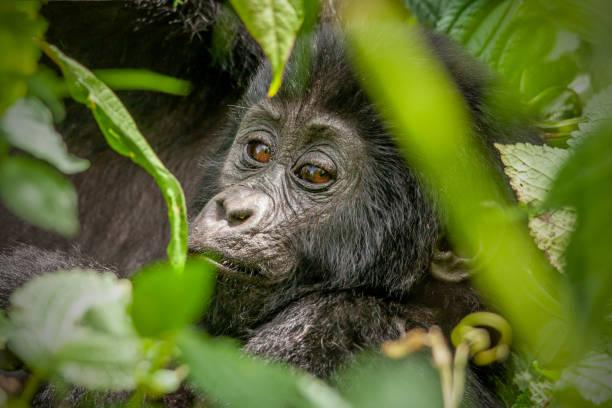goriile_montagne: (139, 3, 483, 337)
